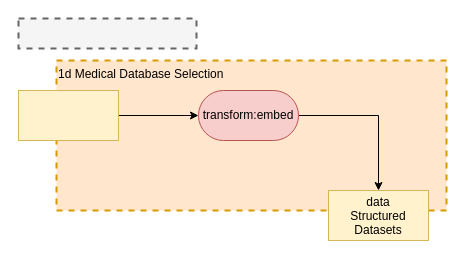
Image size: 464x258. Some labels were removed from this diagram. Each missing label, with the box of its shape:
<-- Back to Generalized Pattern: (17, 17, 197, 49)
data Raw Medical Datasets: (18, 90, 118, 140)
